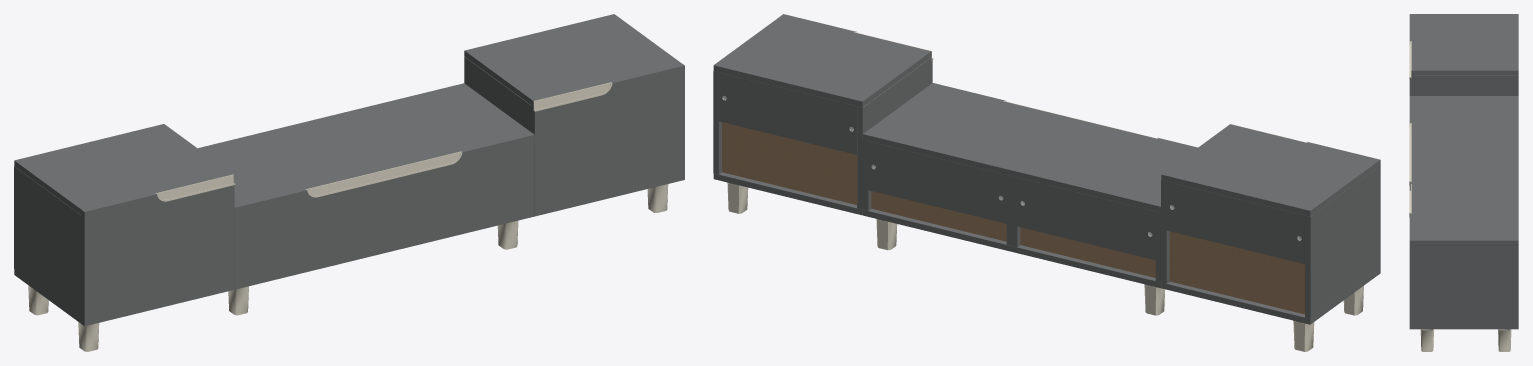
3 views of the same model, side by side, from view 1: azimuth 30°, elevation 25°; view 2: azimuth 150°, elevation 25°; view 3: azimuth 270°, elevation 25° (orthographic). The views are drawn at different scales.
Parts seen in each view (by area): view 1: group_0.148, group_0.147, group_0.144, group_0.094, group_0.114, group_0.146, group_0.151, group_0.145, group_0.149, group_0.143; view 2: group_0.148, group_0.147, group_0.144, group_0.094, group_0.150, group_0.152, group_0.015, group_0.153, group_0.114, group_0.146; view 3: group_0.147, group_0.148, group_0.094, group_0.144, group_0.146, group_0.149, group_0.143.
Part boxes in pixels (x1=…): group_0.148: x1=14, y1=124, x2=234, y2=326; group_0.147: x1=464, y1=14, x2=684, y2=216; group_0.144: x1=314, y1=83, x2=534, y2=252; group_0.094: x1=198, y1=120, x2=384, y2=289; group_0.114: x1=28, y1=285, x2=248, y2=351; group_0.146: x1=497, y1=184, x2=668, y2=249; group_0.151: x1=533, y1=82, x2=612, y2=111; group_0.145: x1=383, y1=151, x2=462, y2=180; group_0.149: x1=155, y1=174, x2=235, y2=201; group_0.143: x1=305, y1=170, x2=384, y2=197; group_0.148: x1=1161, y1=124, x2=1380, y2=324; group_0.147: x1=713, y1=14, x2=932, y2=215; group_0.144: x1=862, y1=83, x2=1080, y2=251; group_0.094: x1=1012, y1=120, x2=1197, y2=288; group_0.150: x1=1169, y1=231, x2=1304, y2=314; group_0.152: x1=722, y1=122, x2=856, y2=204; group_0.015: x1=1020, y1=227, x2=1155, y2=277; group_0.153: x1=871, y1=191, x2=1006, y2=241; group_0.114: x1=1144, y1=284, x2=1363, y2=351; group_0.146: x1=727, y1=182, x2=897, y2=250; group_0.147: x1=1409, y1=184, x2=1518, y2=329; group_0.148: x1=1409, y1=14, x2=1518, y2=95; group_0.094: x1=1409, y1=96, x2=1518, y2=152; group_0.144: x1=1409, y1=152, x2=1518, y2=190; group_0.146: x1=1420, y1=329, x2=1511, y2=351; group_0.149: x1=1409, y1=41, x2=1411, y2=78; group_0.143: x1=1409, y1=123, x2=1411, y2=159.
Bounding box in the file's own units: 1.92 × 0.4528 × 0.391.
6 materials, 1 textured.
